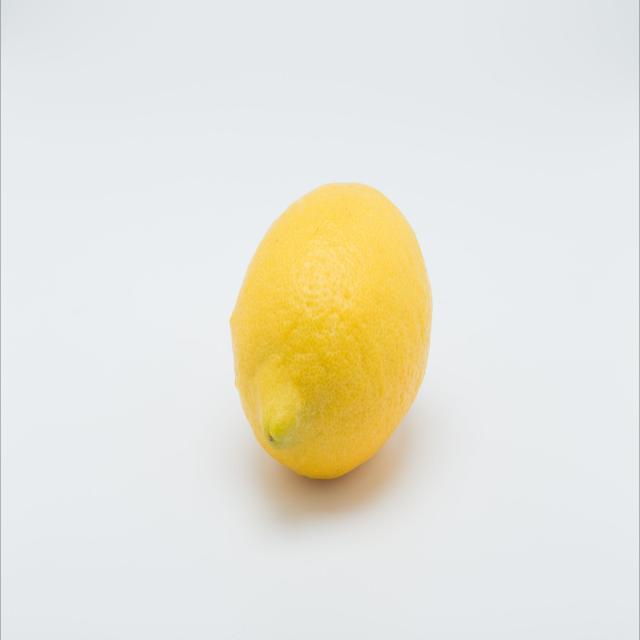lemon: (227, 177, 437, 484)
